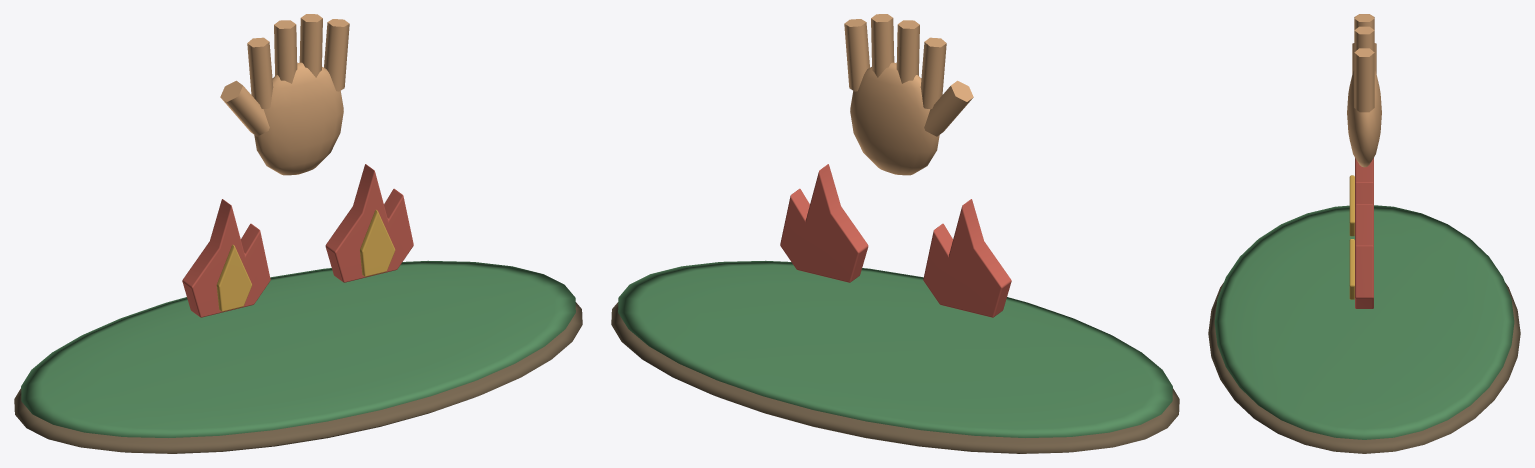
File: hot-hand.glb
3 views of the same model, side by side, from view 1: azimuth 30°, elevation 25°; view 2: azimuth 150°, elevation 25°; view 3: azimuth 270°, elevation 25° (orthographic). The views are drawn at different scales.
Parts seen in each view (by area): view 1: hot-hand_surface_01, hot-hand_surface_02, hot-hand_surface_00, hot-hand_surface_03, hot-hand_surface_04; view 2: hot-hand_surface_01, hot-hand_surface_02, hot-hand_surface_03, hot-hand_surface_00; view 3: hot-hand_surface_01, hot-hand_surface_00, hot-hand_surface_02, hot-hand_surface_03, hot-hand_surface_04.
Boxes of the visible parts, bbox=[...] form: hot-hand_surface_01: bbox=[21, 260, 575, 437]; hot-hand_surface_02: bbox=[220, 14, 349, 175]; hot-hand_surface_00: bbox=[14, 302, 582, 453]; hot-hand_surface_03: bbox=[182, 164, 413, 317]; hot-hand_surface_04: bbox=[216, 210, 395, 311]; hot-hand_surface_01: bbox=[618, 260, 1172, 437]; hot-hand_surface_02: bbox=[844, 14, 973, 175]; hot-hand_surface_03: bbox=[780, 164, 1011, 317]; hot-hand_surface_00: bbox=[611, 302, 1179, 453]; hot-hand_surface_01: bbox=[1214, 205, 1514, 439]; hot-hand_surface_00: bbox=[1208, 282, 1520, 453]; hot-hand_surface_02: bbox=[1347, 14, 1381, 167]; hot-hand_surface_03: bbox=[1355, 158, 1373, 308]; hot-hand_surface_04: bbox=[1349, 175, 1354, 299].
Bounding box in the file's own units: 4.56 × 2.86 × 2.5.
